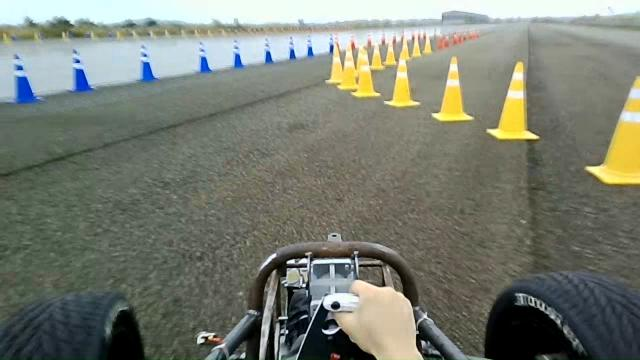blue cone: (6, 52, 44, 104)
yellow cone: (584, 75, 639, 185), (486, 60, 540, 140), (431, 55, 474, 122), (384, 58, 420, 107), (350, 54, 376, 98), (337, 48, 358, 90), (325, 44, 343, 84), (623, 76, 639, 112)
